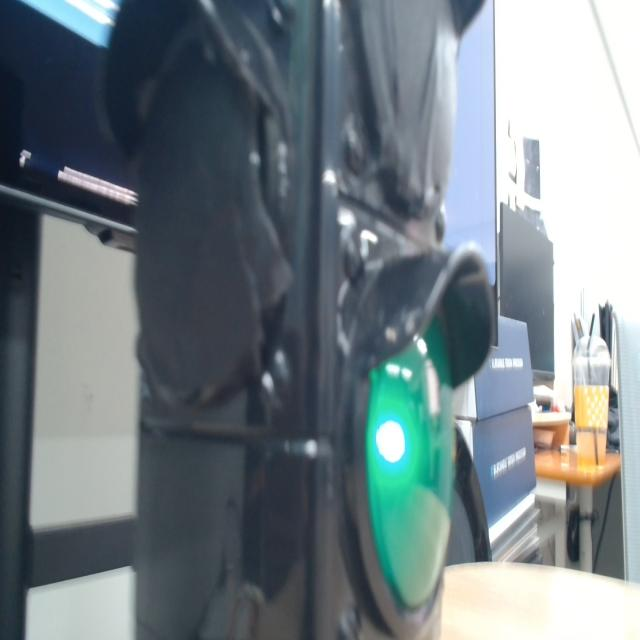green_light: (366, 321, 453, 607), (376, 421, 405, 463)
